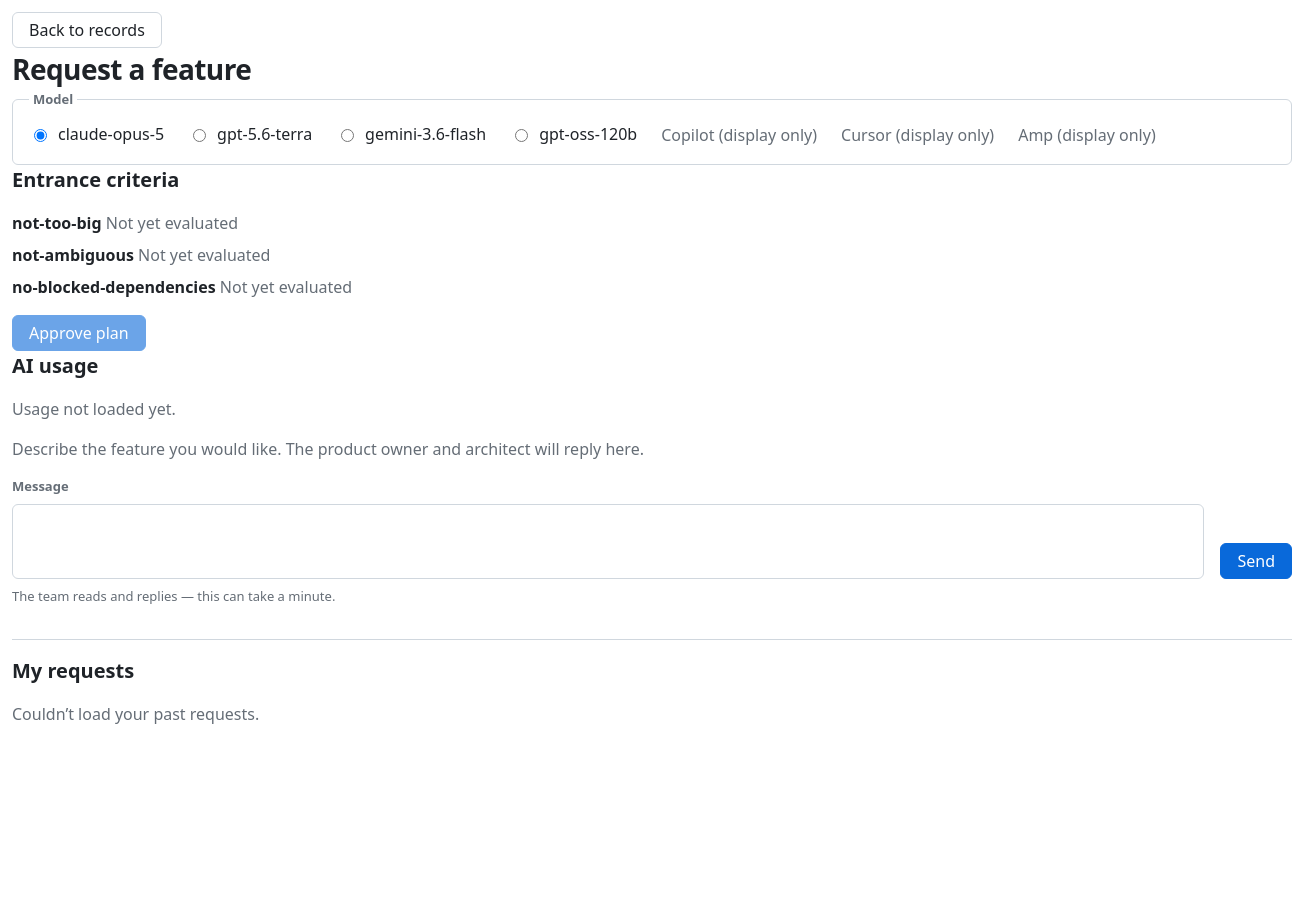
Test: DAN-76 tester · generic approval failure › also failing on a network-style error with no extensions at all
Type "Add a export button" into the text box labelled "Message" at point(608, 542), box [12,504,1204,579]
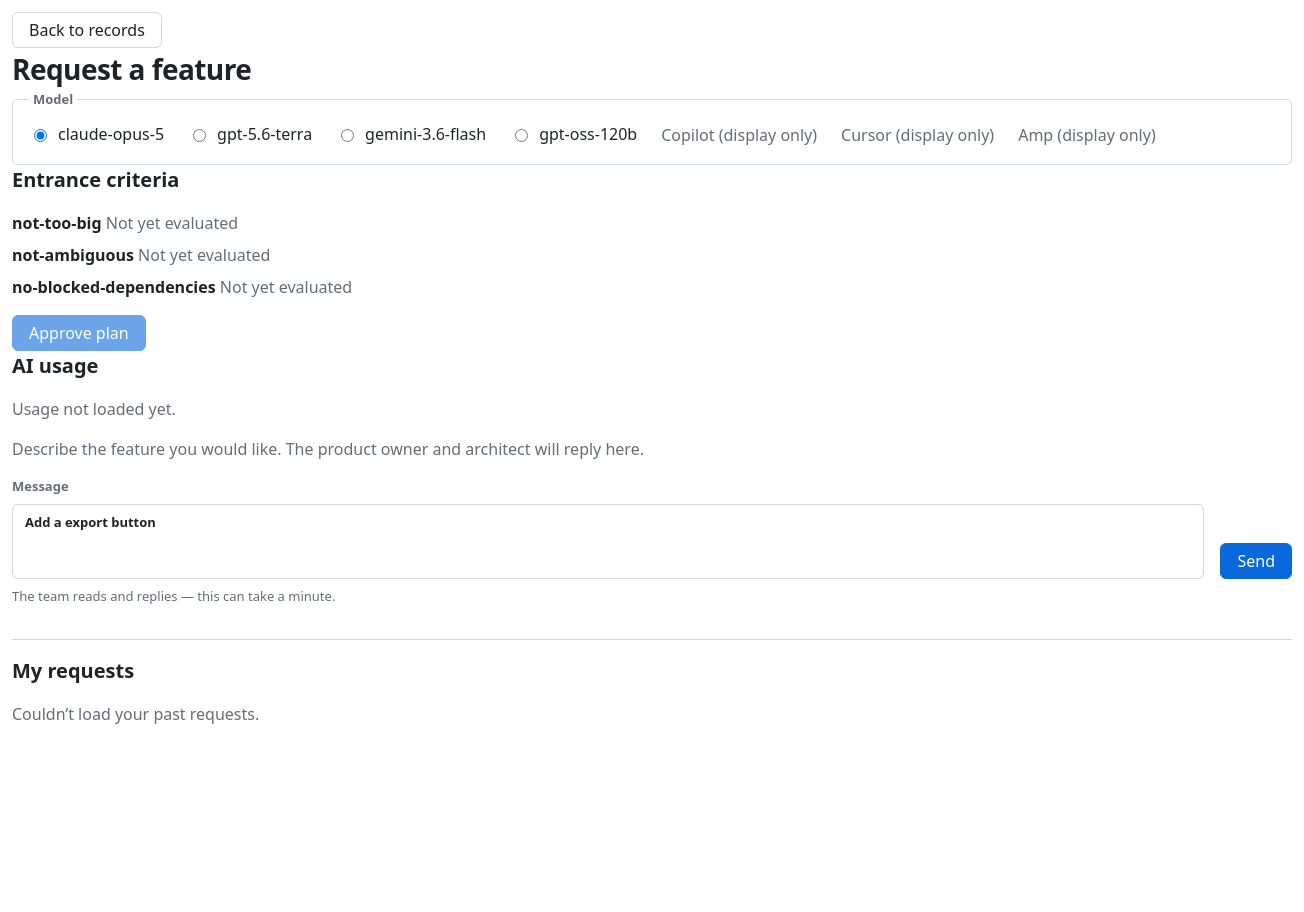
Click the button "Send" at point(1256, 561), box [1220,543,1292,579]
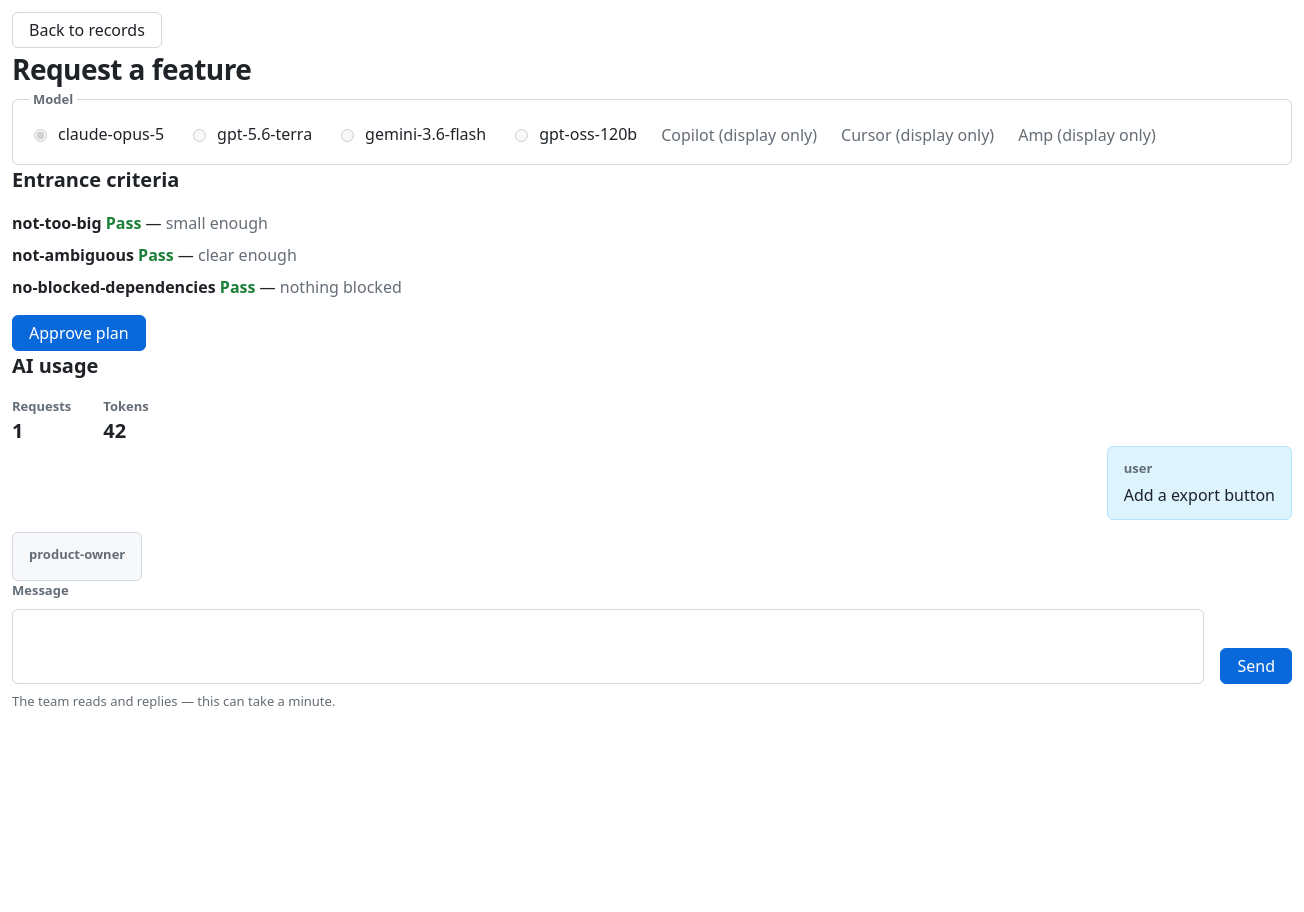
Expected: the button "Approve plan" is enabled
Click the button "Approve plan" at point(79, 332), box [12,314,146,350]
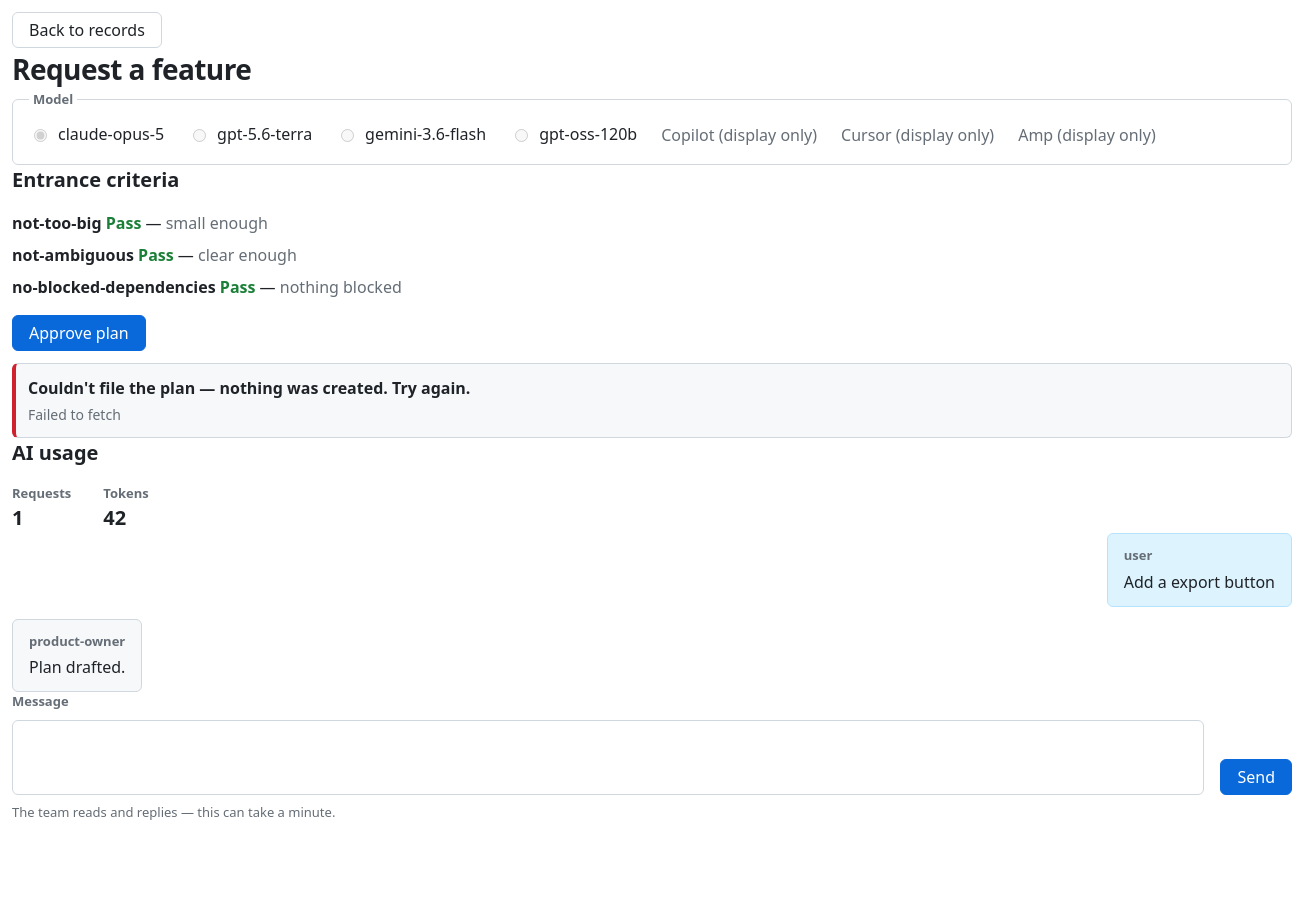
Expected: the message shows "Couldn't file the plan — nothing was created. Try again.", [28,376,470,398]
